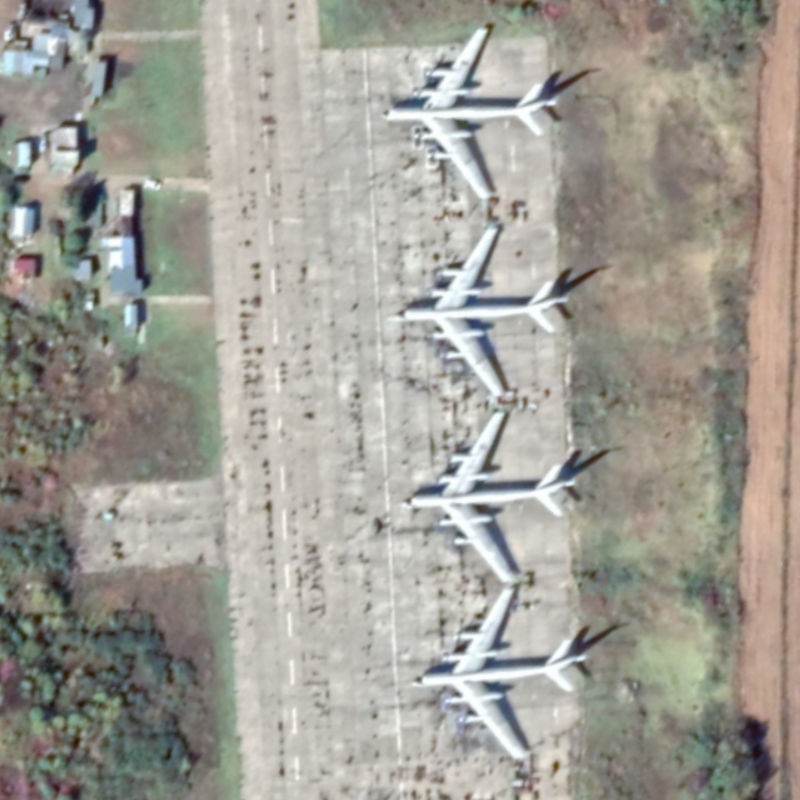A17: (401, 581, 591, 763), (396, 403, 582, 587), (375, 24, 562, 206), (389, 219, 574, 400)
